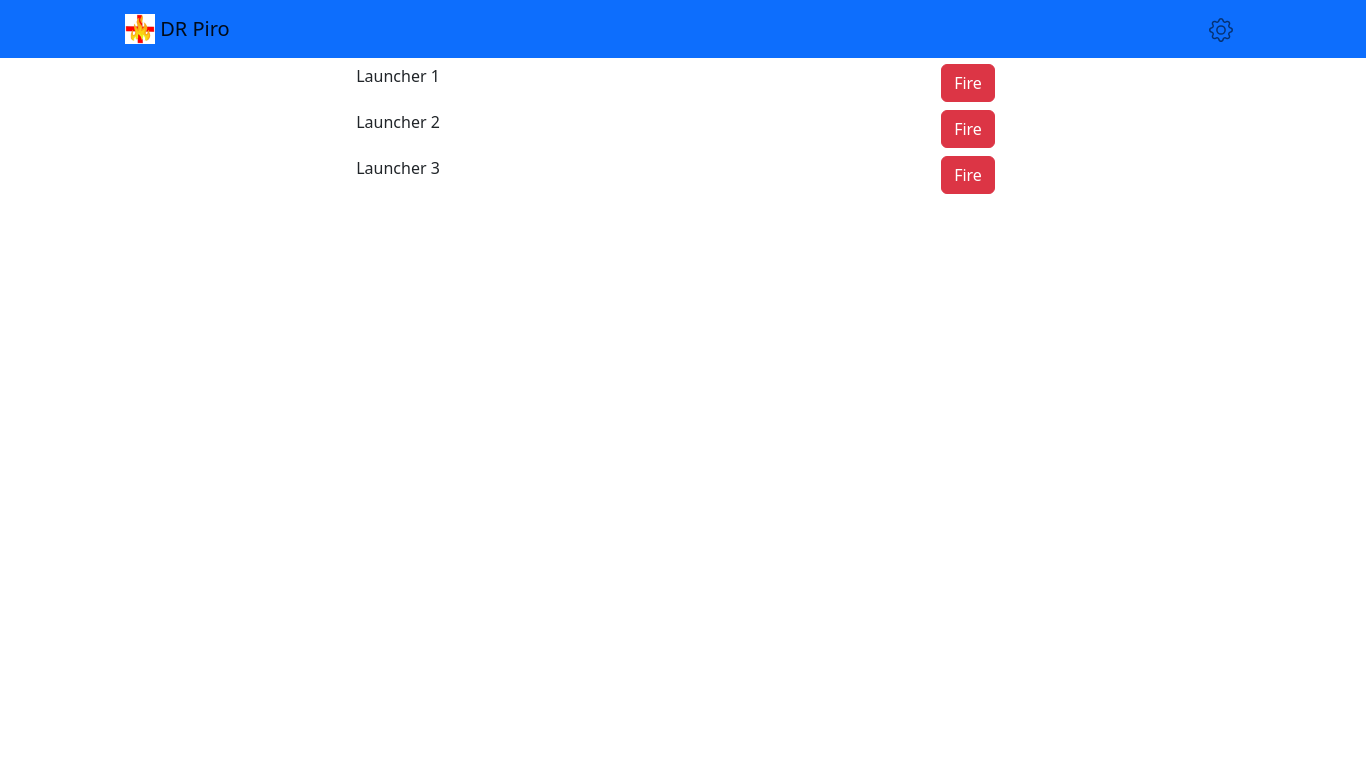
Test: App Component › opens configuration modal when gear icon is clicked
Expected: the text "Launcher 1" is shown, [356,65,440,87]
What coordinates should you click on to do the following:
click the 1st button
I would click on:
 (1221, 30)
Its box is [1209,18,1233,42].
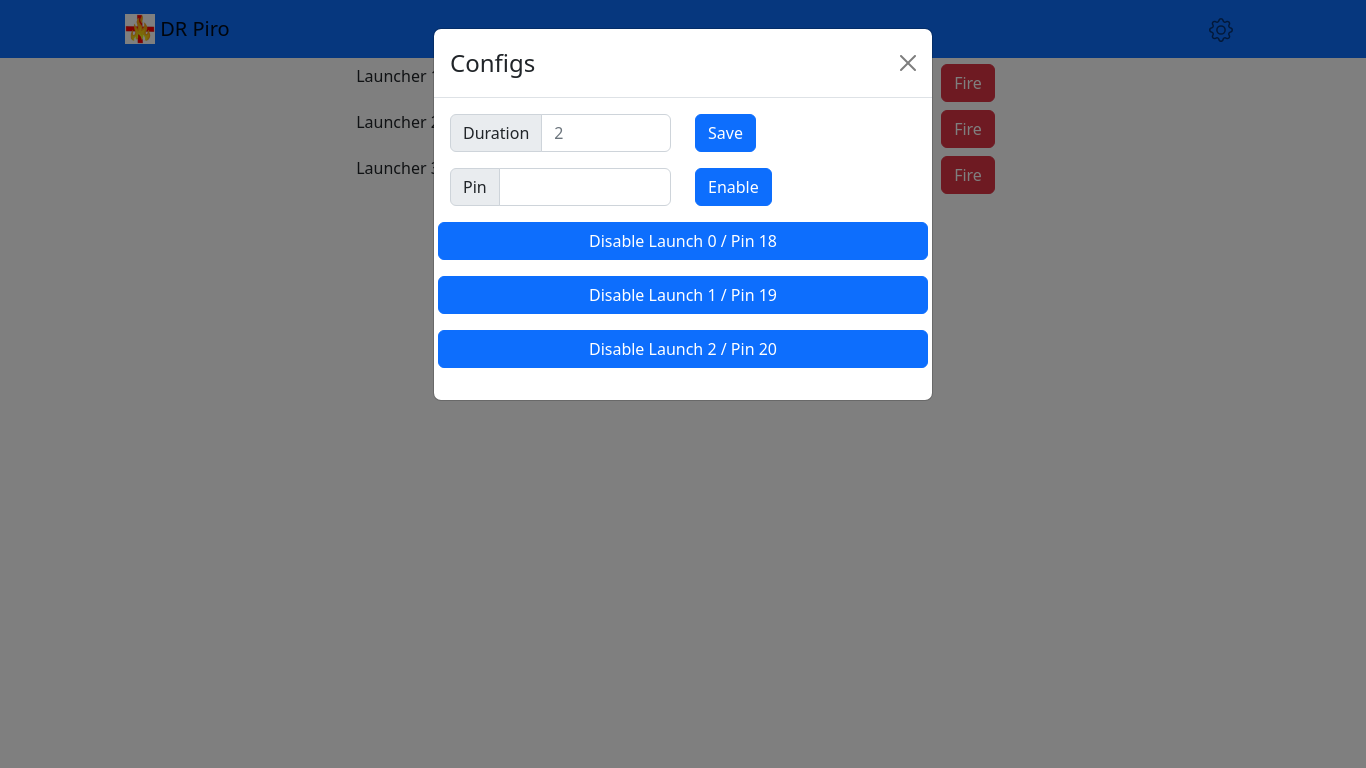
Expected: the text "Configs" is shown, [450,45,535,81]
